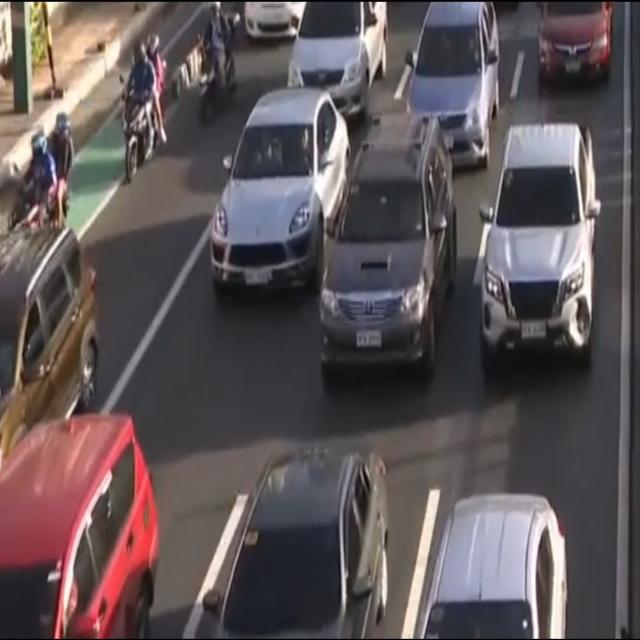Motorcycle: (214, 87, 353, 308), (9, 110, 73, 242), (123, 31, 165, 187), (198, 0, 237, 126)
SUV: (315, 114, 456, 396), (0, 403, 161, 640), (478, 110, 596, 373), (0, 218, 99, 450), (419, 490, 568, 640), (407, 4, 503, 164)
Sedan: (200, 441, 392, 640), (284, 0, 390, 114)
